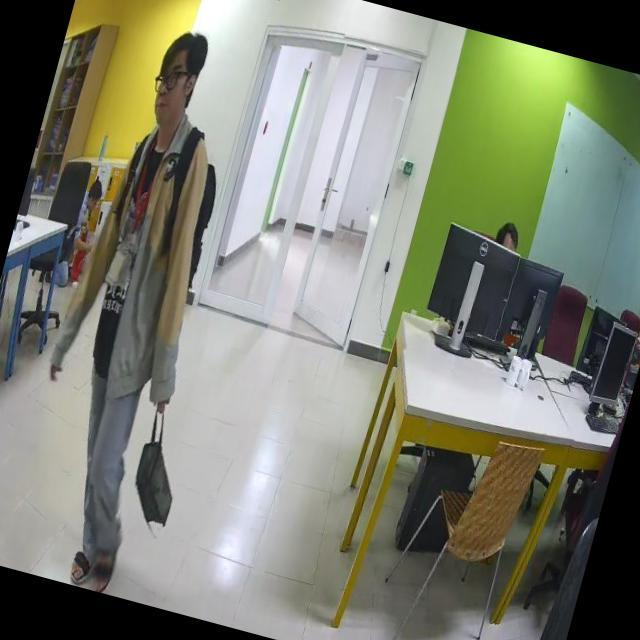person: (3, 15, 266, 597)
